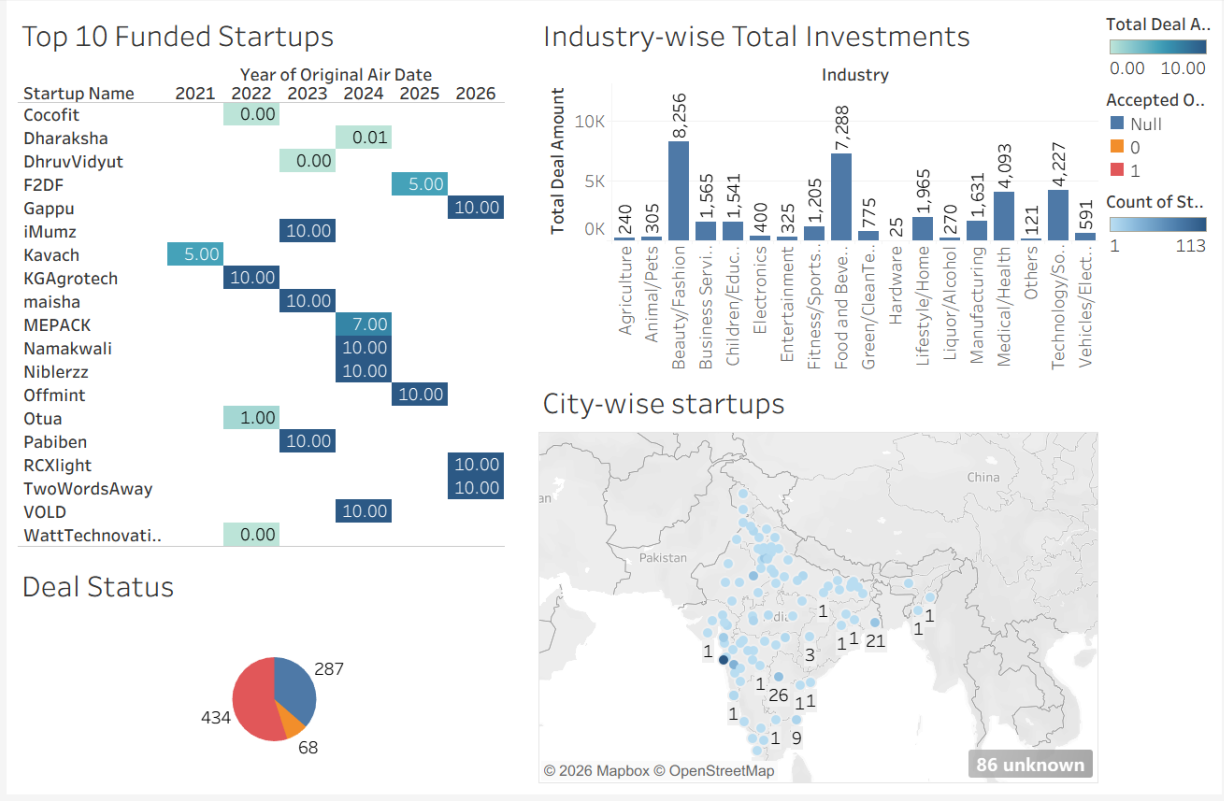

What the dashboard file says about the page in this screenshot:
{"tool":"tableau","page":{"name":"Dashboard 1","canvas":[1300,850],"ordinal":0},"visuals":[{"type":"worksheet","title":"Top 10 Funded Startups","mark":"Square","rows":["Startup Name"],"cols":["Original Air Date"],"box":[8,8,557,589]},{"type":"worksheet","title":"Industry-wise Total Investments","mark":"Automatic","rows":["Total Deal Amount"],"cols":["Industry"],"box":[565,8,607,393]},{"type":"legend","title":"Top 10 Funded Startups","param":"[federated.1od6byd053wm0011g24ze1gkcwjx].[sum:Total Deal Amount:qk]","box":[1172,8,120,81]},{"type":"legend","title":"Deal Status","param":"[federated.1od6byd053wm0011g24ze1gkcwjx].[none:Accepted Offer:ok]","box":[1172,89,120,109]},{"type":"legend","title":"City-wise startups","param":"[federated.1od6byd053wm0011g24ze1gkcwjx].[cnt:Startup Name:qk]","box":[1172,198,120,81]},{"type":"worksheet","title":"City-wise startups","mark":"Automatic","box":[565,401,607,441]},{"type":"worksheet","title":"Deal Status","mark":"Pie","box":[8,597,557,245]}]}

Visuals, with their boxes in screenshot pixels (x1, y1, x2, y2), scaled from the page's 1300x850 canvas onto the 1224x801 screenshot:
"Top 10 Funded Startups" worksheet (Square marks): crop(8, 8, 532, 563)
"Industry-wise Total Investments" worksheet: crop(532, 8, 1103, 378)
"Top 10 Funded Startups" legend: crop(1103, 8, 1216, 84)
"Deal Status" legend: crop(1103, 84, 1216, 187)
"City-wise startups" legend: crop(1103, 187, 1216, 263)
"City-wise startups" worksheet: crop(532, 378, 1103, 793)
"Deal Status" worksheet (Pie marks): crop(8, 563, 532, 793)
